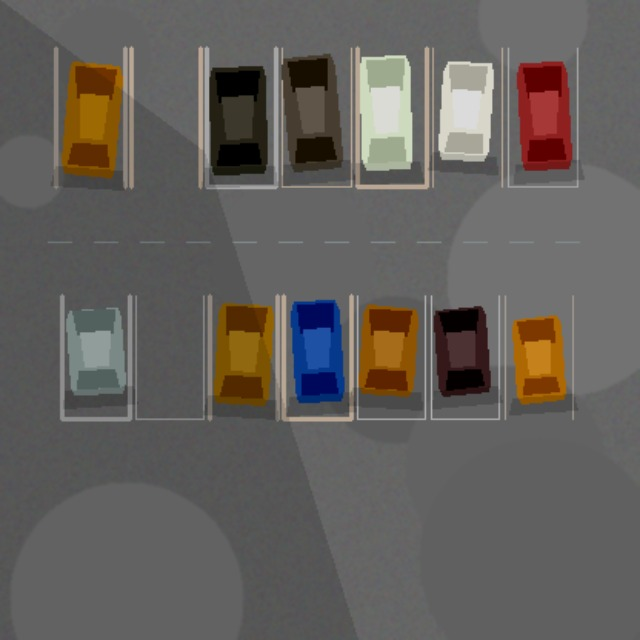space-empty: (131, 48, 200, 186), (135, 295, 203, 418)
space-occupied: (55, 48, 125, 186), (432, 48, 502, 186), (206, 48, 275, 186), (282, 48, 351, 186), (357, 48, 426, 186), (508, 48, 577, 186), (209, 295, 277, 418), (283, 295, 351, 418), (357, 295, 425, 418), (62, 295, 129, 418), (431, 295, 498, 418), (505, 295, 572, 418)
